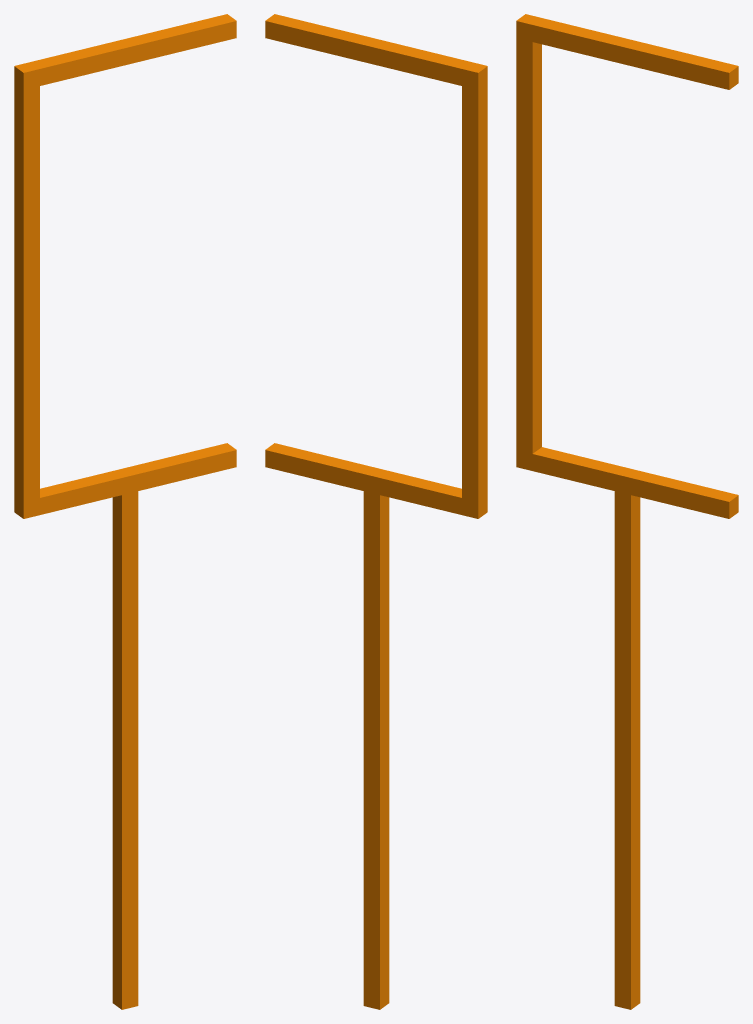
3 renders of one model, left to right at view 1: azimuth 30°, elevation 25°; view 2: azimuth 150°, elevation 25°; view 3: azimuth 330°, elevation 25°, orthographic.
Visible parts, largest first — view 1: group_0, group_1; view 2: group_0, group_1; view 3: group_0, group_1.
Boxes of the visible parts, <box> form: group_0: <box>14,14,236,518</box>; group_1: <box>112,491,138,1009</box>; group_0: <box>265,14,487,518</box>; group_1: <box>363,491,389,1009</box>; group_0: <box>516,14,738,518</box>; group_1: <box>614,491,640,1009</box>.
Bounding box in the file's own units: 25.59 × 1.97 × 110.
